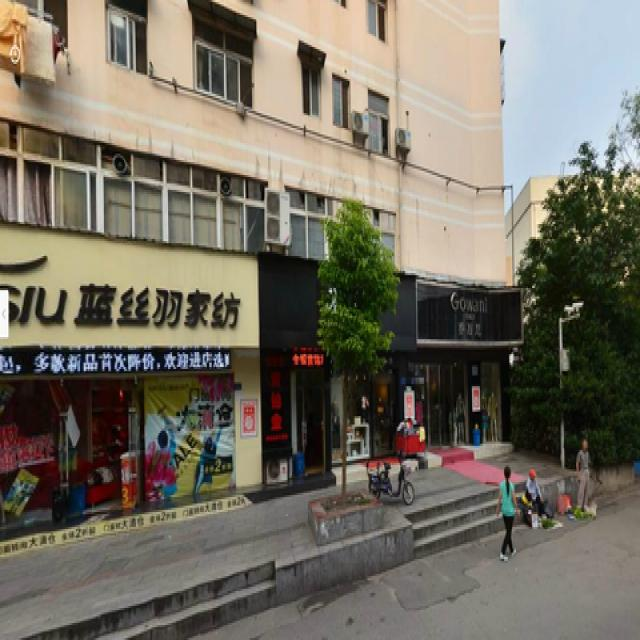cinn: (314, 194, 386, 508)
